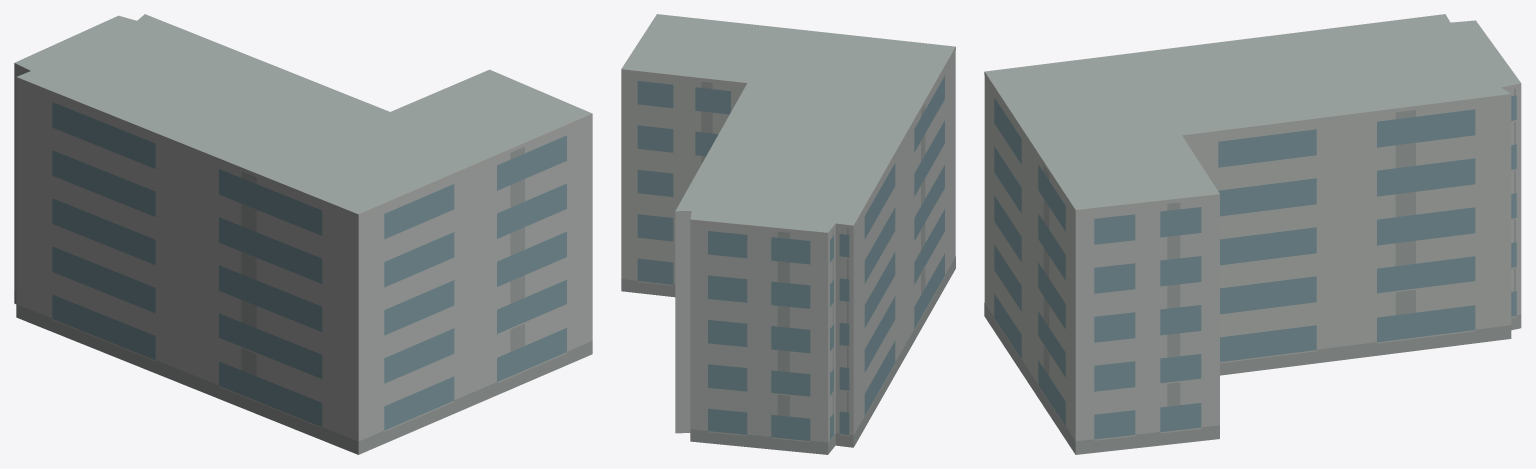
The model's file is survey-upis-32595626.glb.
3 views of the same model, side by side, from view 1: azimuth 30°, elevation 25°; view 2: azimuth 150°, elevation 25°; view 3: azimuth 270°, elevation 25° (orthographic). The views are drawn at different scales.
Parts seen in each view (by area): view 1: survey-upis-32595626.tmp; view 2: survey-upis-32595626.tmp; view 3: survey-upis-32595626.tmp.
Boxes of the visible parts, box(x1,y1,x2,y2) form: survey-upis-32595626.tmp: box(14, 14, 592, 454); survey-upis-32595626.tmp: box(621, 14, 955, 454); survey-upis-32595626.tmp: box(984, 14, 1521, 454).
Size of the model in its own units: 26.19 by 15.25 by 30.31.
